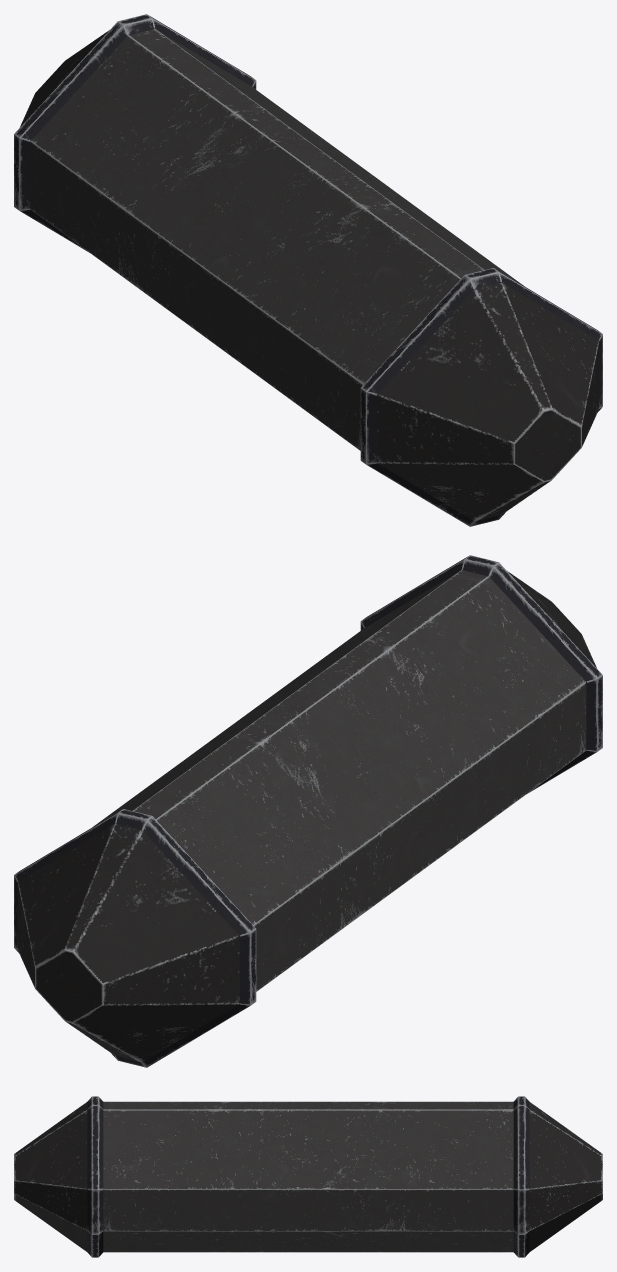
The model's file is body_s_1.fbx.
The picture shows the model from 3 angles, top to bottom: view 1: azimuth 30°, elevation 25°; view 2: azimuth 150°, elevation 25°; view 3: azimuth 270°, elevation 25°; orthographic projection. The views are drawn at different scales.
Parts seen in each view (by area): view 1: body_s_1; view 2: body_s_1; view 3: body_s_1.
Boxes of the visible parts, bbox=[...] form: body_s_1: bbox=[14, 14, 602, 526]; body_s_1: bbox=[14, 555, 602, 1067]; body_s_1: bbox=[14, 1096, 602, 1257].
Size of the model in its own units: 9.15 by 9.15 by 32.06.
